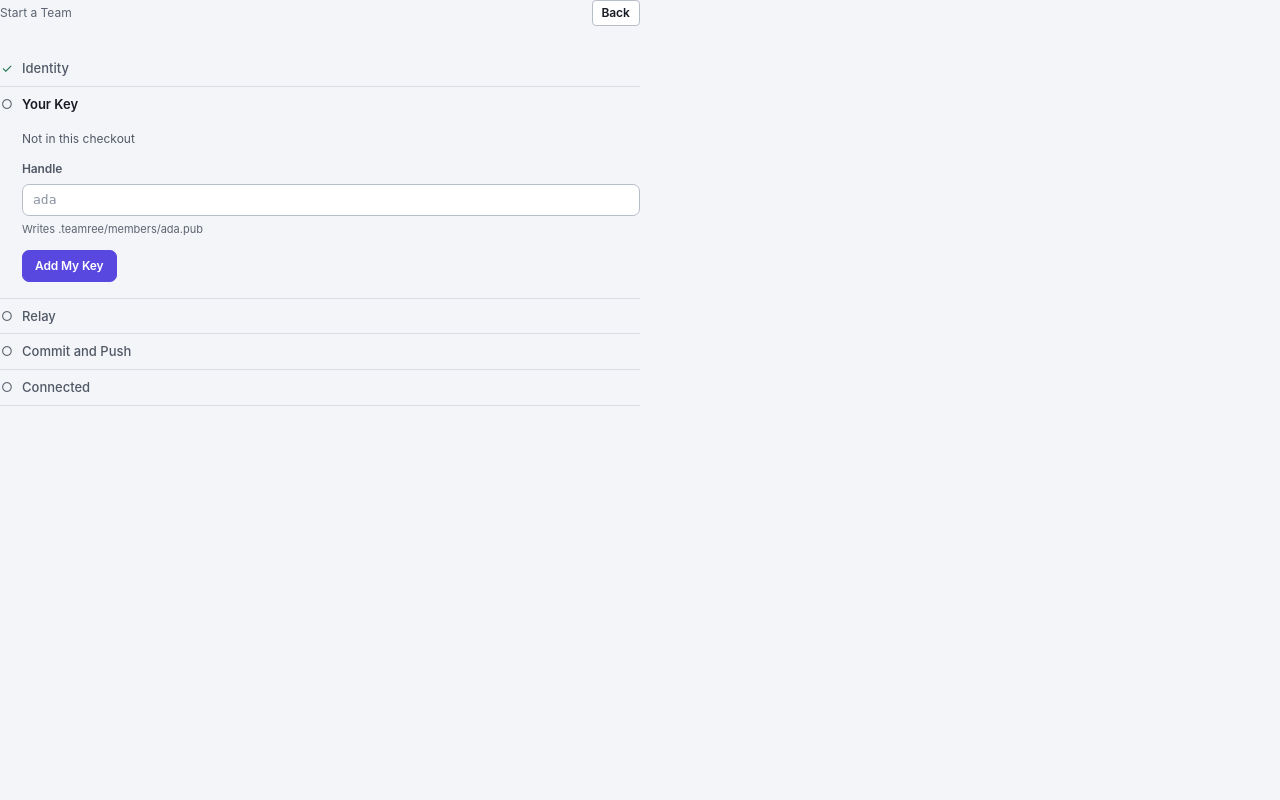
Test: what a key grants, and where it is said › is the body of the question Add My Key asks, and nothing is written until it is answered
The image size is (1280, 800).
Expected: the text "Anyone on this roster can type into any pane here, as you" is not shown
Type "ana" into the field labelled "Handle Writes .teamree/members/ada.pub" at (331, 200), box [22,184,640,216]
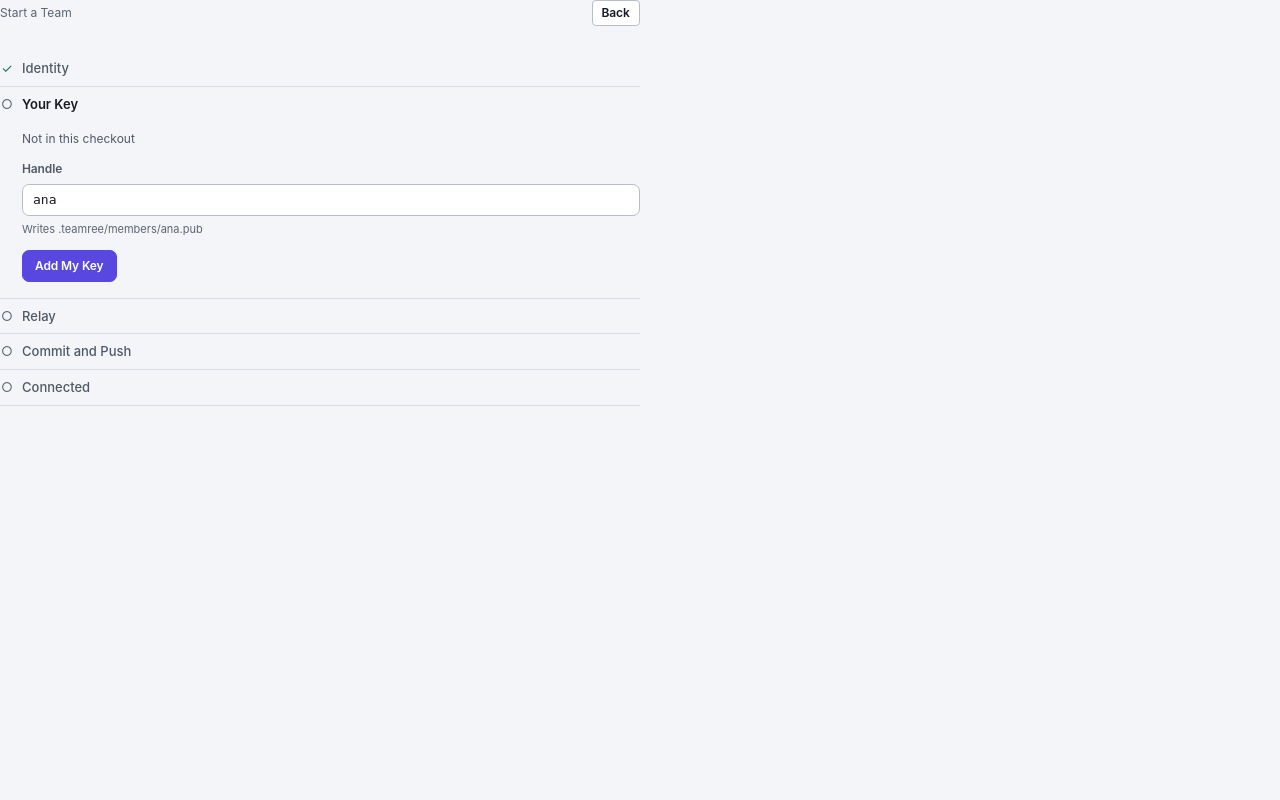
Click the button "Add My Key" at (69, 266), box [22,250,116,282]
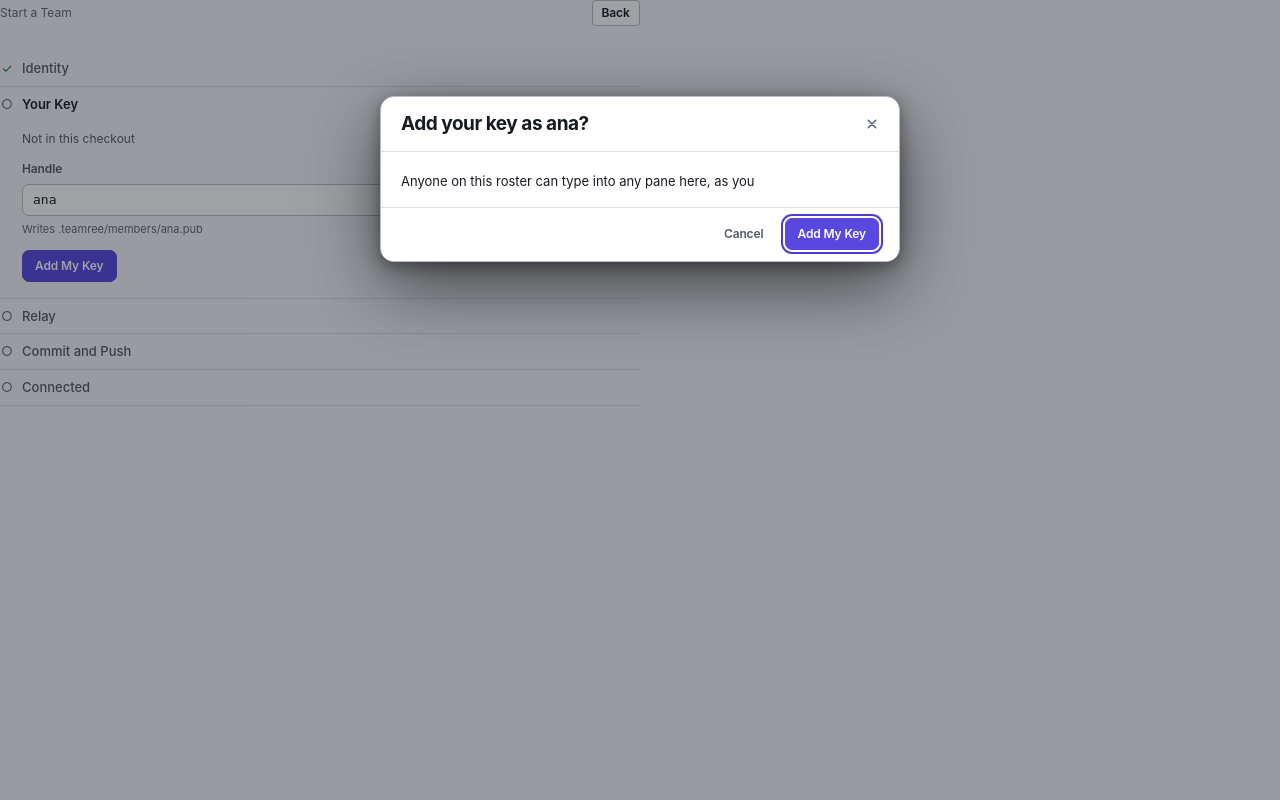
Expected: the text with class "confirm__body" reads "Anyone on this roster can type into any pane here, as you", [401,173,754,189]
Click the button "Cancel" at (744, 234), box [711,218,776,250]
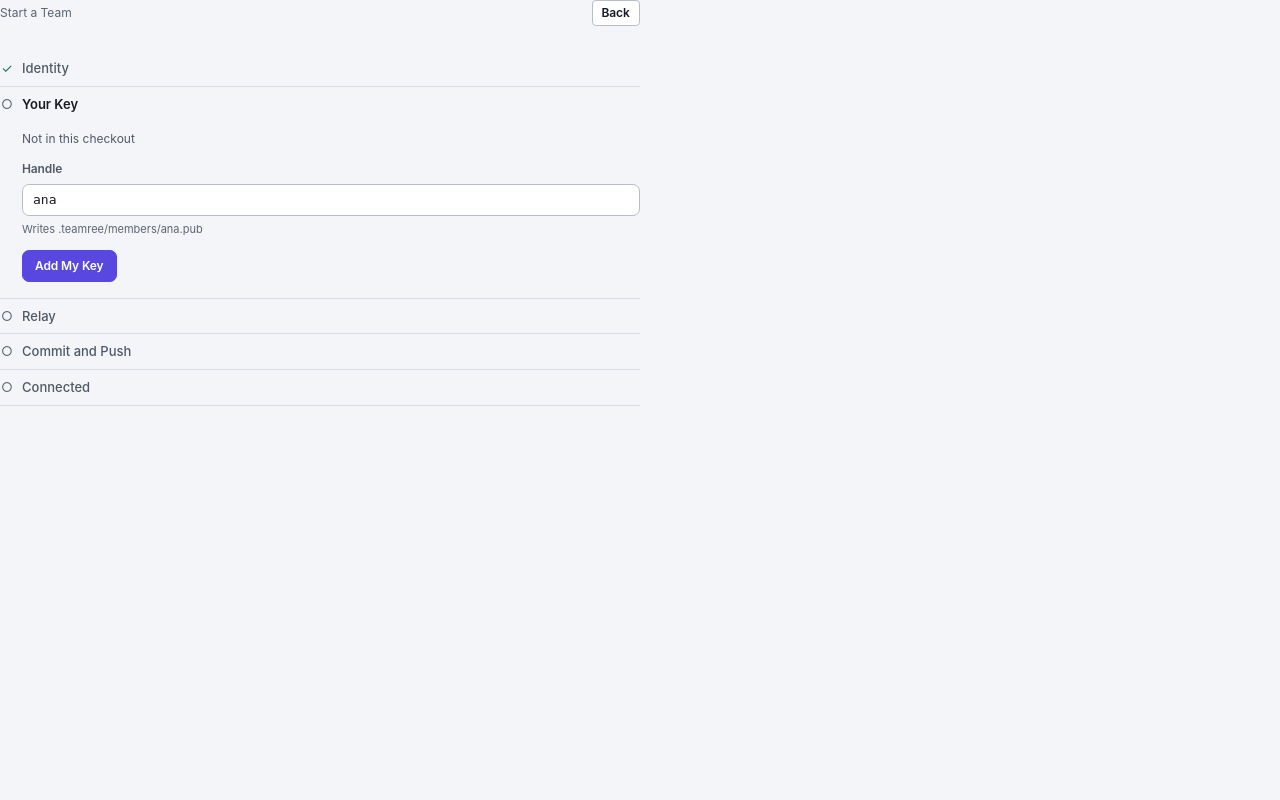
Expected: the dialog is gone
Click the button "Add My Key" at (69, 266), box [22,250,116,282]
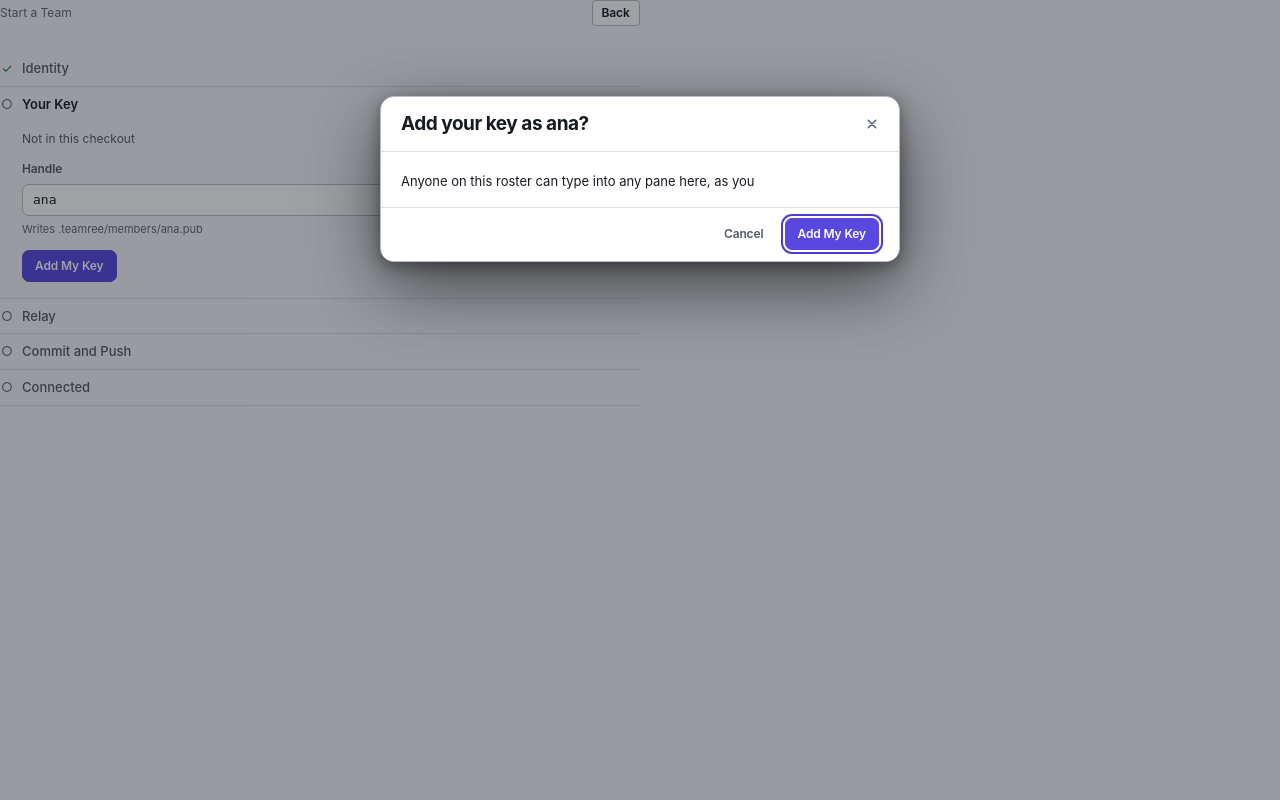
Click the button "Add My Key" at (832, 234), box [784,218,879,250]
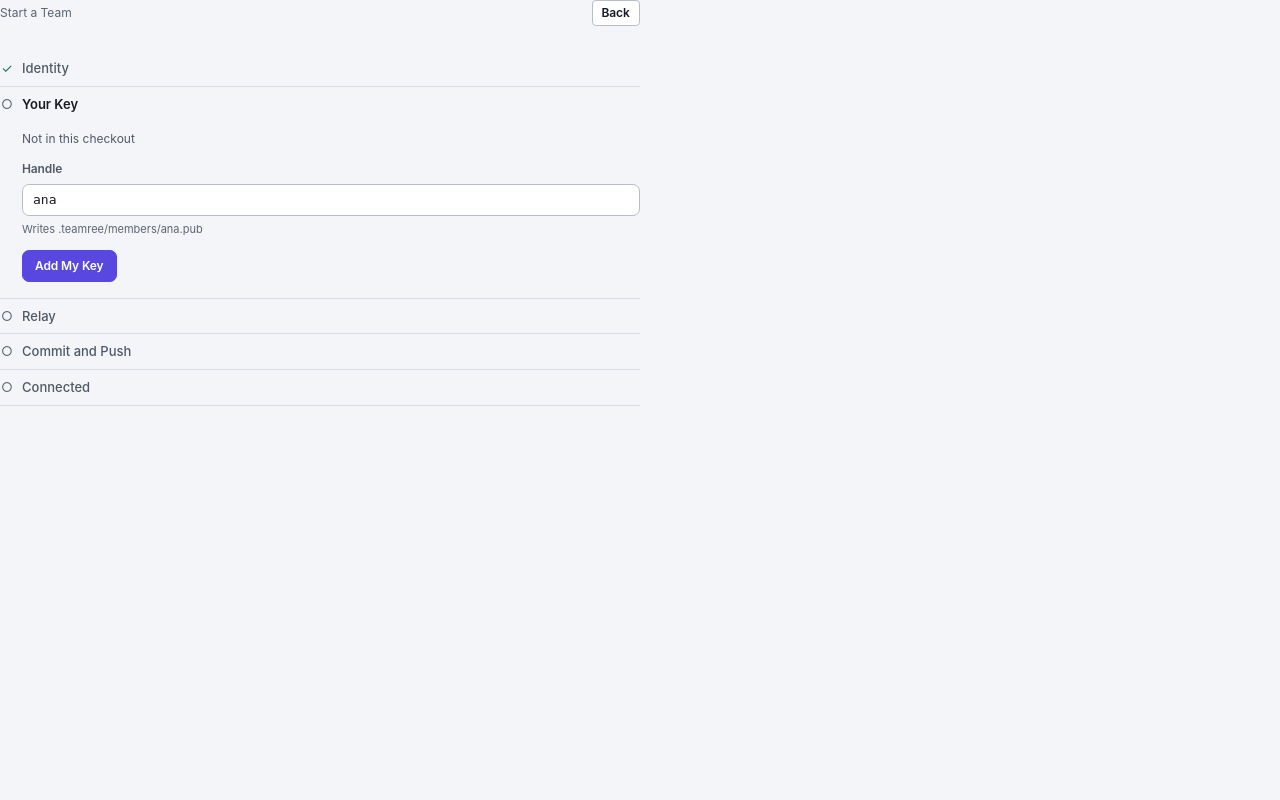
Expected: the dialog is gone
